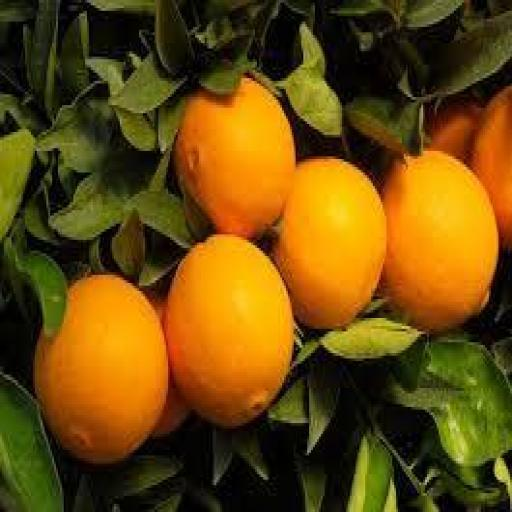orange: (35, 275, 168, 463), (165, 235, 293, 428), (383, 151, 498, 331), (174, 79, 295, 237), (275, 159, 386, 328)
